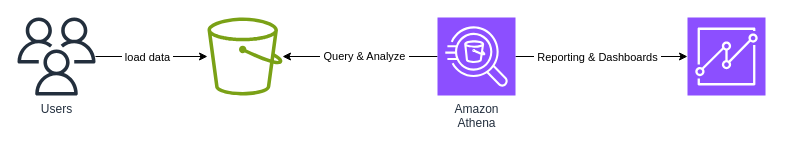
Image size: 796x149. Some labels were removed from this diagram. The shapes that lost their labels are listed below. From the top down, each one's box as (x1, y1, x2, y2) in pixels, then its label:
(207, 17, 282, 95): S3 Bucket
(686, 16, 766, 96): Amazon QuickSight
